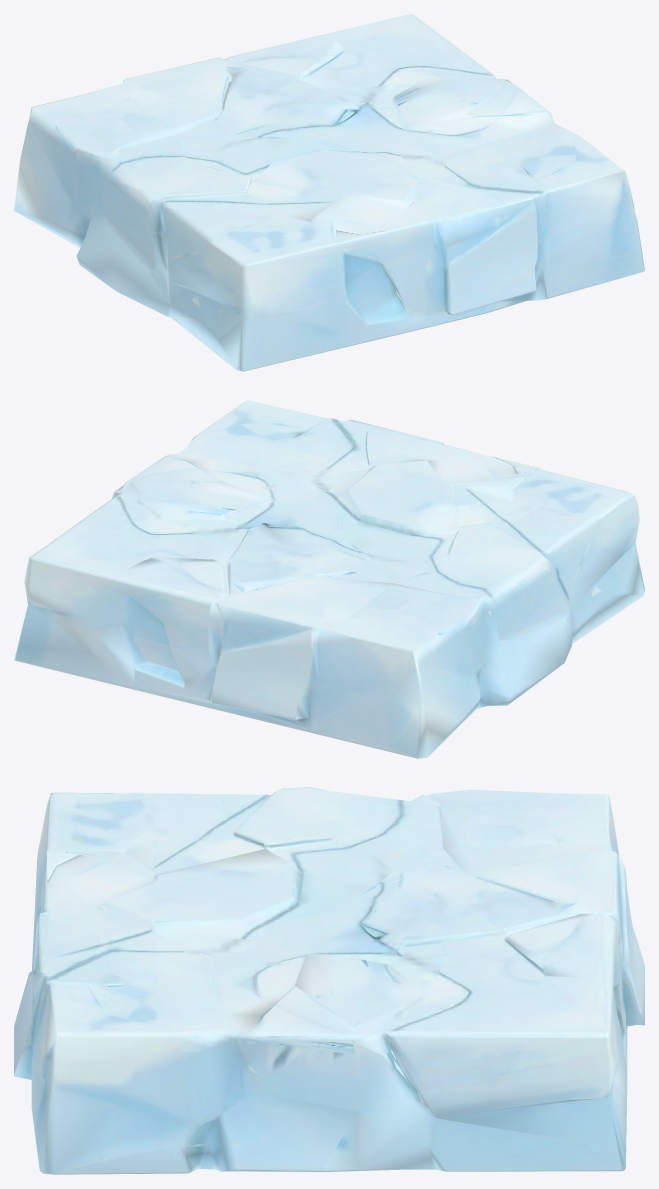
Rendered from ice_floe.glb.
3 views of the same model, one above another, from view 1: azimuth 30°, elevation 25°; view 2: azimuth 150°, elevation 25°; view 3: azimuth 270°, elevation 25° (orthographic). The views are drawn at different scales.
Parts seen in each view (by area): view 1: 0; view 2: 0; view 3: 0.
Part boxes in pixels (x1=…): 0: x1=14, y1=14, x2=644, y2=371; 0: x1=14, y1=400, x2=644, y2=758; 0: x1=14, y1=787, x2=644, y2=1174.
Size of the model in its own units: 1.9 by 0.4345 by 1.81.
1 material, 1 textured.
